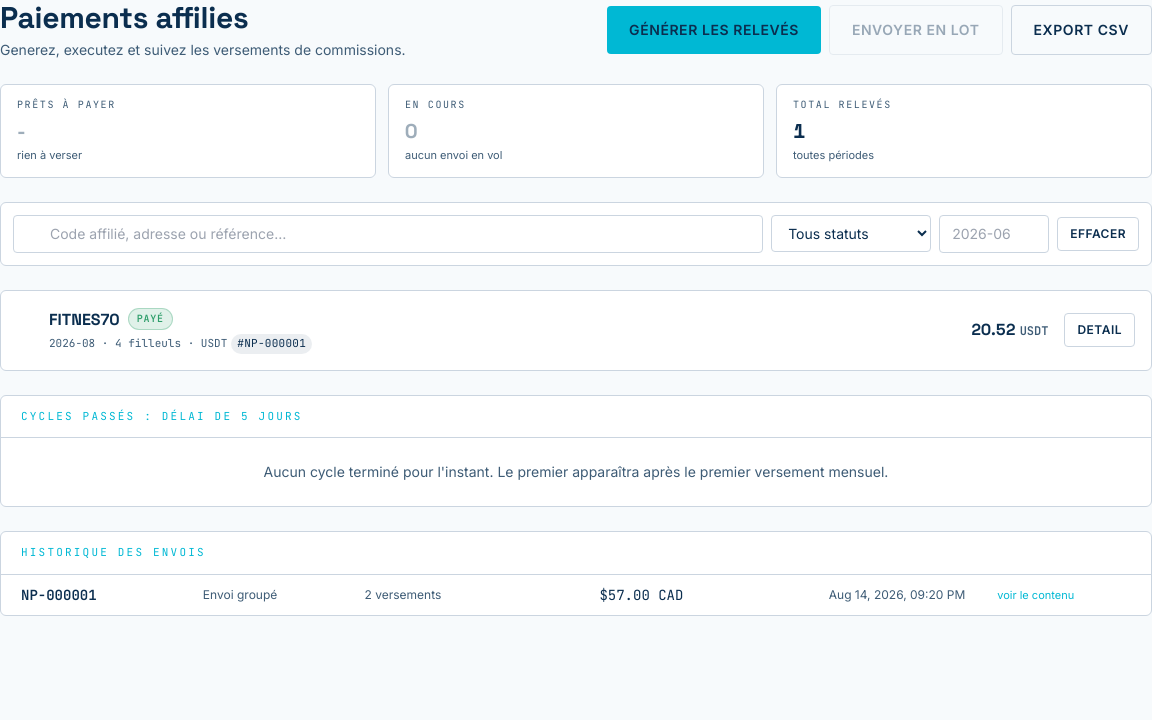
it: AdminPayouts › AUDITE un lot quand on clique dessus, au lieu de filtrer une liste
This screenshot has width=1152, height=720.
Step 1. Click the row with test id "run-open-NP-000001" → [59, 595], box [1,575,1151,615]
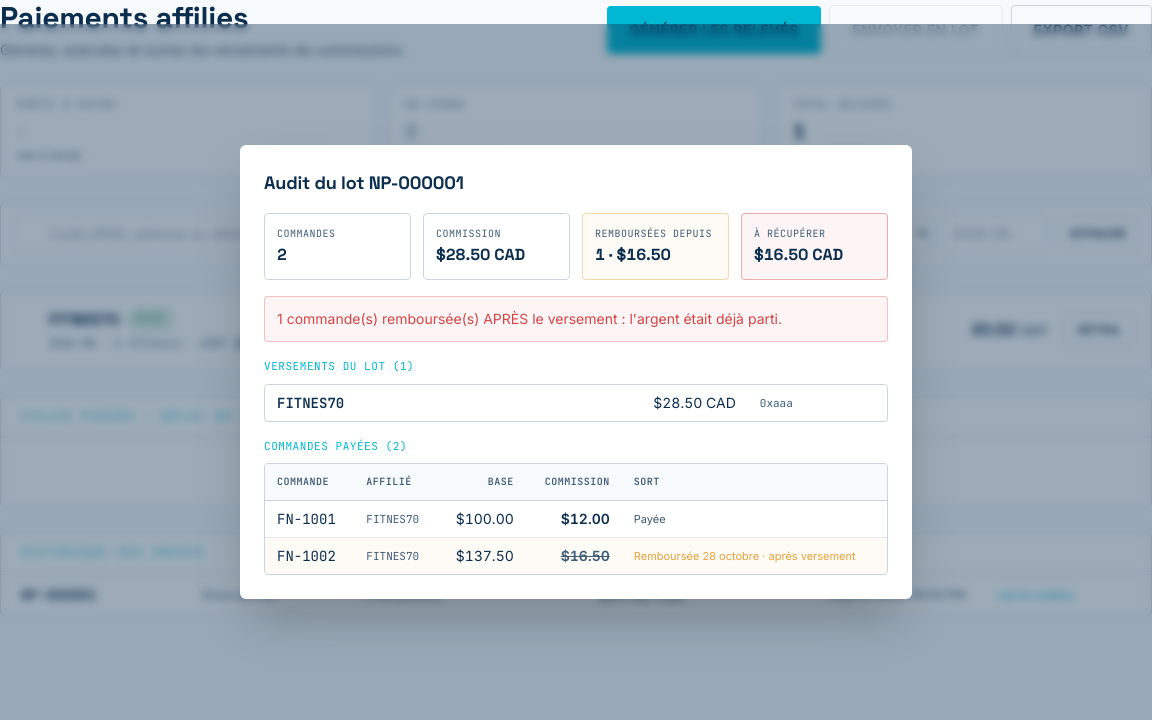
Result: the row with test id "lot-ligne-FN-1001" is shown at [265,501,887,538]
Result: the row with test id "lot-ligne-FN-1002" is shown at [265,538,887,574]
Result: the text with test id "lot-commandes" reads "2" at [277,244,287,265]
